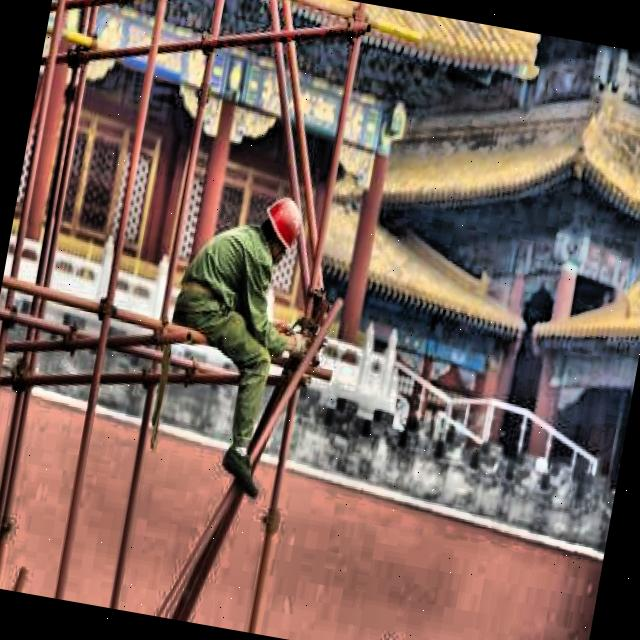helmet: (256, 193, 307, 260)
